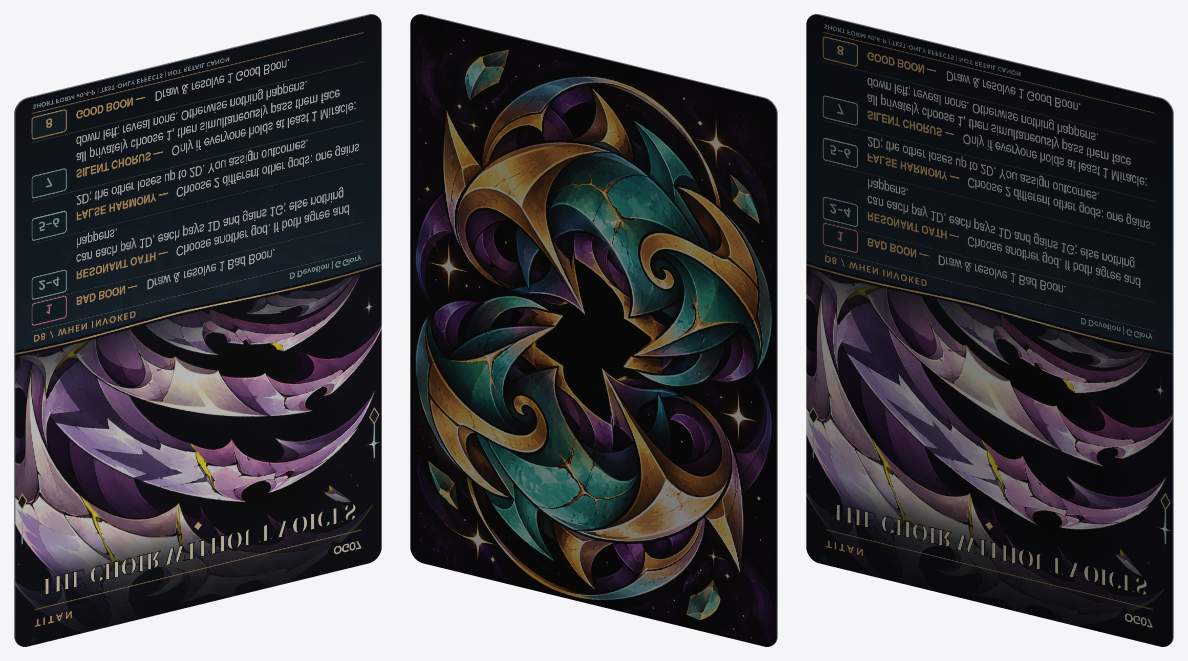
Rendered from SGLD_OG07_The_Choir_Without_Voices_3D_Card_v0.1-P_UNAPPROVED.glb.
3 renders of one model, left to right at view 1: azimuth 30°, elevation 25°; view 2: azimuth 150°, elevation 25°; view 3: azimuth 330°, elevation 25°, orthographic.
Visible parts, largest first — view 1: OG07_FRONT, OG07_EDGE; view 2: OG07_BACK, OG07_EDGE; view 3: OG07_FRONT, OG07_EDGE.
Boxes of the visible parts, box(x1,y1,x2,y2) form: OG07_FRONT: box(15, 15, 381, 646); OG07_EDGE: box(14, 14, 381, 646); OG07_BACK: box(410, 15, 776, 646); OG07_EDGE: box(410, 14, 777, 646); OG07_FRONT: box(806, 15, 1172, 646); OG07_EDGE: box(806, 14, 1173, 646).
Bounding box in the file's own units: 0.0889 × 0.127 × 0.00035.
Materials: 3 (2 with a texture image).
